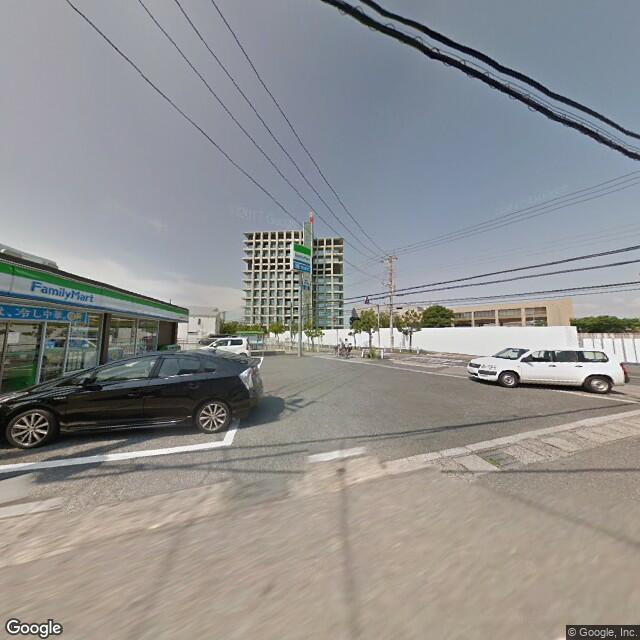family_mart: (2, 257, 191, 326), (25, 274, 96, 305), (290, 241, 312, 271)
